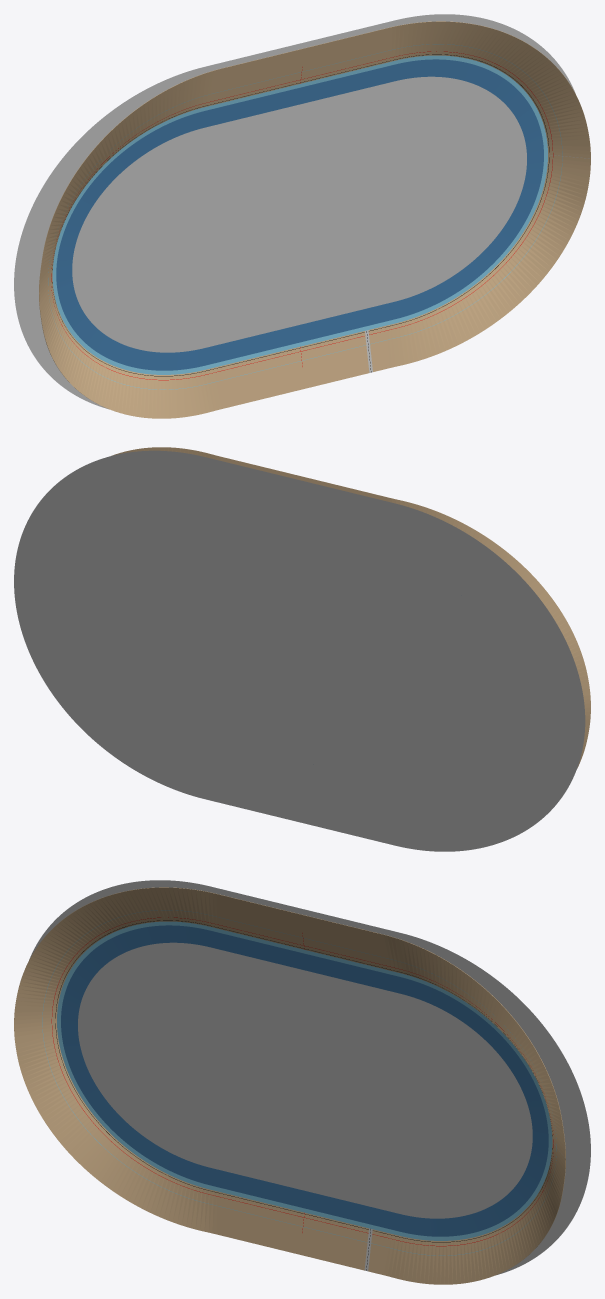
Rendered from Velodrome+250m_Geometry.obj.
3 views of the same model, one above another, from view 1: azimuth 30°, elevation 25°; view 2: azimuth 150°, elevation 25°; view 3: azimuth 330°, elevation 25° (orthographic).
Visible parts, largest first — view 1: obj6078, obj6092, obj6087, obj6081, obj6090, obj6091, obj6076, obj6021, obj5976, obj397, obj15, obj6089 (+13 smaller); view 2: obj6078, obj6080, obj6092, obj6087, obj6091, obj6076, obj6081, obj6090, obj6089, obj6086, obj6085, obj6083 (+10 smaller); view 3: obj6078, obj6087, obj6092, obj6076, obj6091, obj6090, obj6081, obj6080, obj6021, obj5976, obj397, obj15 (+8 smaller).
Part boxes in pixels (bbox=[...]): obj6078: bbox=[394, 76, 526, 301]; obj6092: bbox=[72, 127, 205, 269]; obj6087: bbox=[72, 238, 205, 352]; obj6081: bbox=[299, 192, 394, 324]; obj6090: bbox=[299, 81, 394, 214]; obj6091: bbox=[205, 104, 299, 237]; obj6076: bbox=[205, 215, 299, 347]; obj6021: bbox=[216, 345, 369, 408]; obj5976: bbox=[216, 28, 388, 92]; obj397: bbox=[205, 302, 394, 365]; obj15: bbox=[205, 64, 394, 127]; obj6089: bbox=[14, 278, 107, 408]; obj6078: bbox=[52, 491, 205, 759]; obj6080: bbox=[14, 450, 204, 798]; obj6092: bbox=[394, 543, 547, 711]; obj6087: bbox=[394, 674, 547, 810]; obj6091: bbox=[299, 520, 394, 673]; obj6076: bbox=[299, 651, 394, 805]; obj6081: bbox=[204, 628, 299, 782]; obj6090: bbox=[204, 497, 299, 650]; obj6089: bbox=[394, 711, 585, 851]; obj6086: bbox=[299, 783, 394, 845]; obj6085: bbox=[299, 481, 394, 542]; obj6083: bbox=[204, 760, 299, 822]; obj6078: bbox=[399, 993, 532, 1218]; obj6087: bbox=[78, 1025, 210, 1167]; obj6092: bbox=[78, 942, 210, 1057]; obj6076: bbox=[210, 1058, 305, 1190]; obj6091: bbox=[210, 947, 305, 1080]; obj6090: bbox=[305, 970, 399, 1103]; obj6081: bbox=[305, 1081, 399, 1213]; obj6080: bbox=[400, 933, 590, 1274]; obj6021: bbox=[216, 1206, 367, 1270]; obj5976: bbox=[216, 894, 388, 958]; obj397: bbox=[210, 1168, 399, 1231]; obj15: bbox=[210, 930, 399, 993].
Bounding box in the file's own units: 4443 × 2543 × 207.
